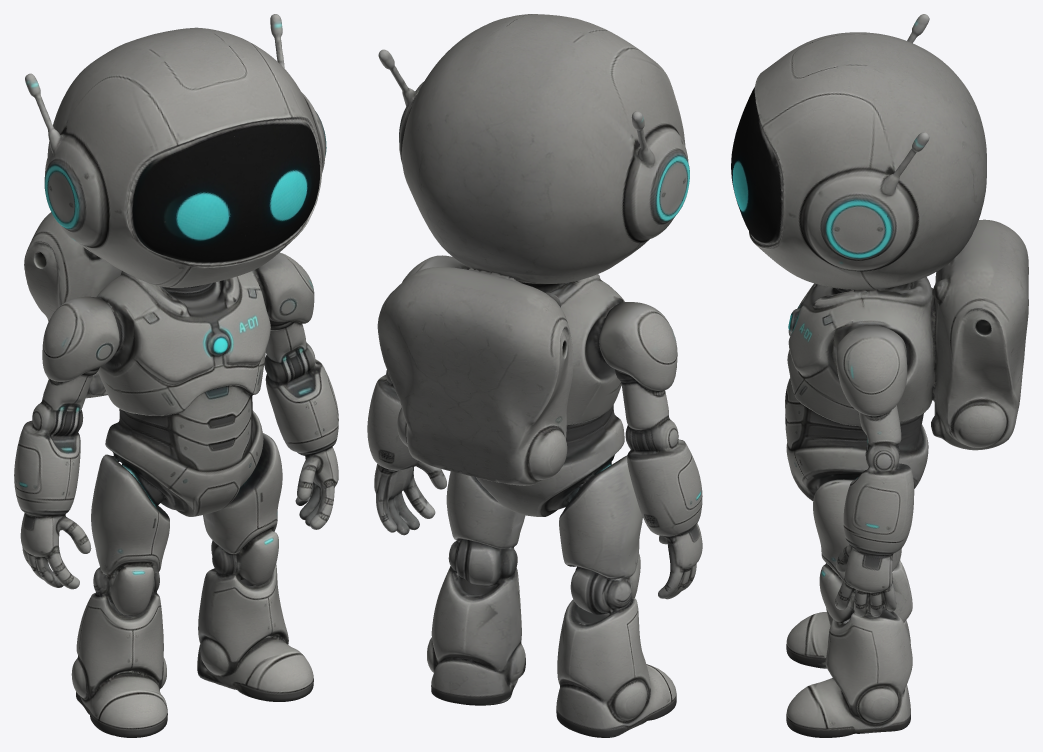
Rendered from AI Bot.glb.
3 renders of one model, left to right at view 1: azimuth 30°, elevation 25°; view 2: azimuth 150°, elevation 25°; view 3: azimuth 270°, elevation 25°, orthographic. The views are drawn at different scales.
Bounding box in the file's own units: 0.9554 × 1.9 × 0.797.
Materials: 1 (1 with a texture image).
